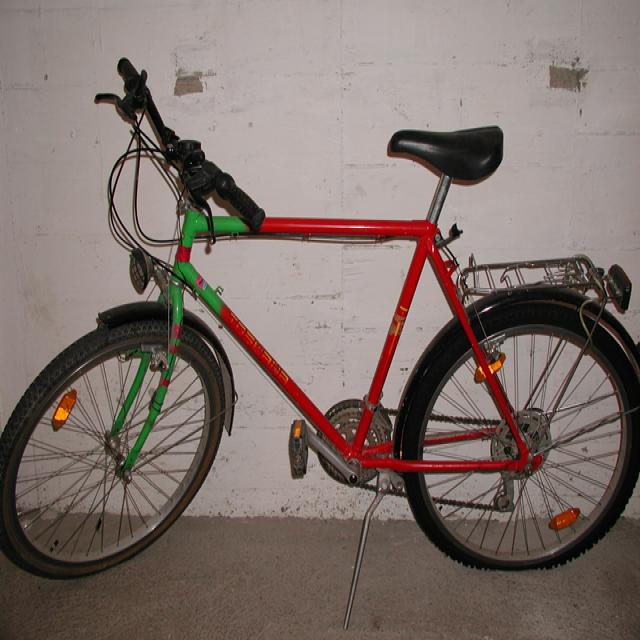bicycle: (0, 56, 639, 592)
